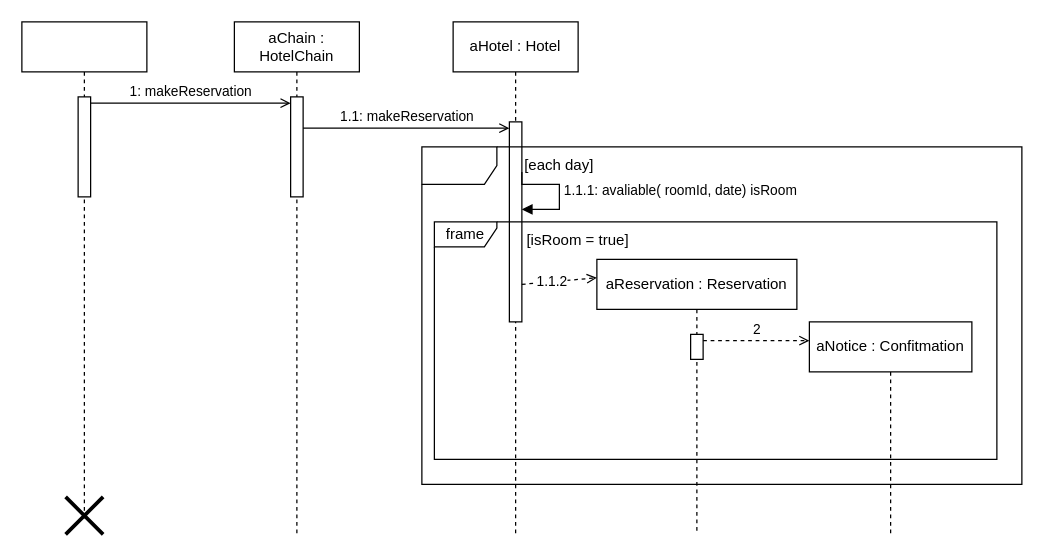
The diagram is 1044 pixels wide and 558 high, and some of its shapes have lost their labels. Here are the shapes that lost their labels. From the top down, the box of each, then its label:
(21, 21, 147, 522): window : UI
(421, 146, 1022, 484): loop
